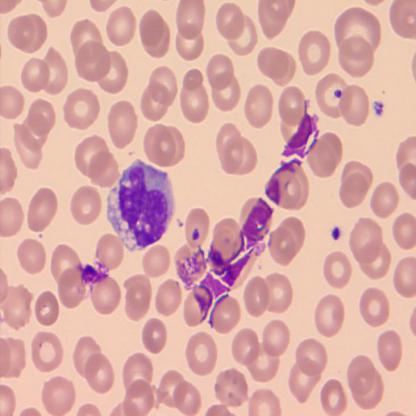Monocyte: (104, 155, 177, 255)
